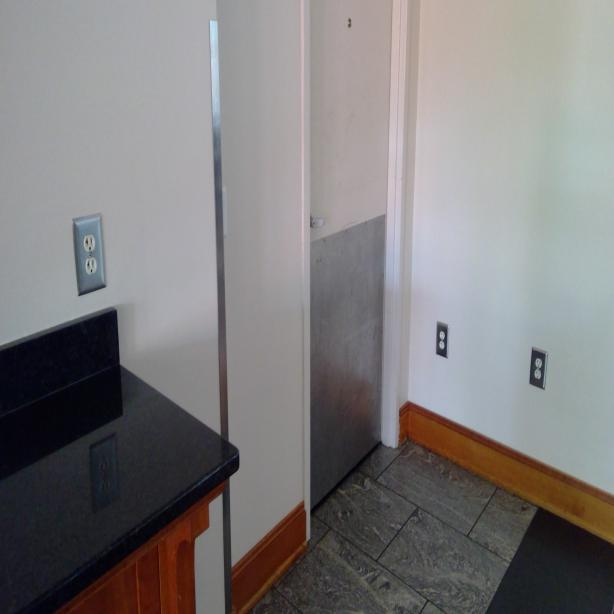typeb: (80, 232, 98, 253), (84, 257, 98, 276), (536, 369, 542, 384), (438, 340, 446, 351), (535, 356, 543, 366), (439, 331, 445, 340)
